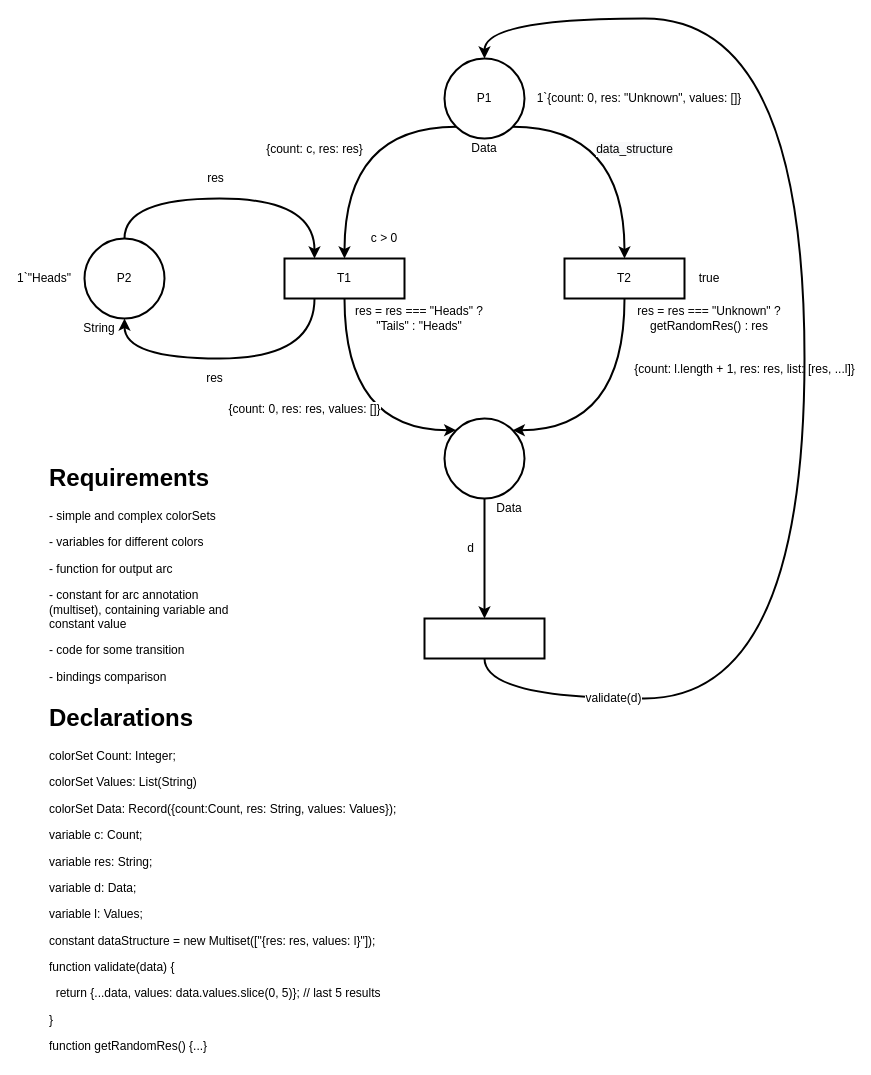
The diagram is 871 pixels wide and 1075 high, and some of its shapes have lost their labels. Each missing label, with the centre of its shape:
P3: the point at 484,458
T3: the point at 484,638
